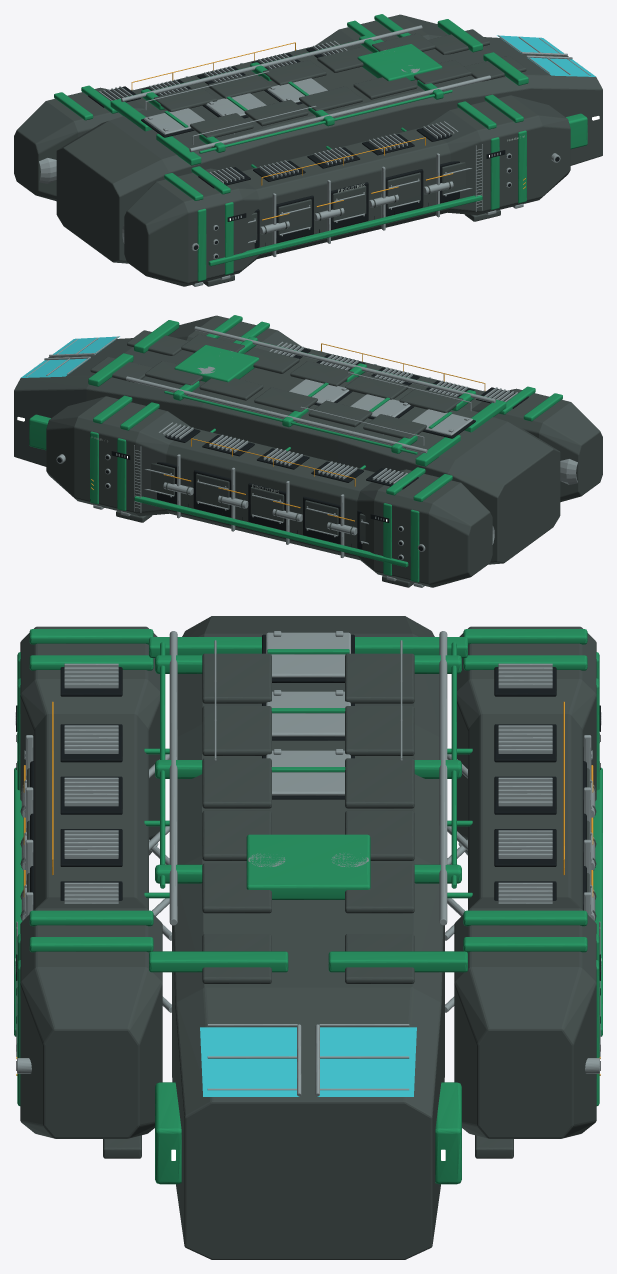
The model's file is pioneer.glb.
The picture shows the model from 3 angles, top to bottom: view 1: azimuth 30°, elevation 25°; view 2: azimuth 150°, elevation 25°; view 3: azimuth 270°, elevation 25°; orthographic projection. The views are drawn at different scales.
Visible parts, largest first — view 1: Graphite ceramic armor, Emerald structural frames, Titanium machinery, Recessed carbon, Navigation glass, Safety amber; view 2: Graphite ceramic armor, Emerald structural frames, Titanium machinery, Recessed carbon, Navigation glass, Safety amber; view 3: Graphite ceramic armor, Emerald structural frames, Titanium machinery, Navigation glass, Recessed carbon, Safety amber.
Boxes of the visible parts, x1,y1,x2,y2 form: Graphite ceramic armor: (14,14,602,286); Emerald structural frames: (54,14,587,281); Titanium machinery: (39,25,590,286); Recessed carbon: (88,44,559,258); Navigation glass: (497,35,595,76); Safety amber: (131,42,525,220); Graphite ceramic armor: (14,315,602,587); Emerald structural frames: (29,315,562,582); Titanium machinery: (26,326,577,587); Recessed carbon: (57,345,528,559); Navigation glass: (21,336,119,377); Safety amber: (91,343,485,521); Graphite ceramic armor: (20,616,596,1259); Emerald structural frames: (14,629,602,1184); Titanium machinery: (15,631,601,1096); Navigation glass: (200,1027,416,1096); Recessed carbon: (16,634,600,1070); Safety amber: (16,701,600,1075).
Bounding box in the file's own units: 72 × 18 × 38.
